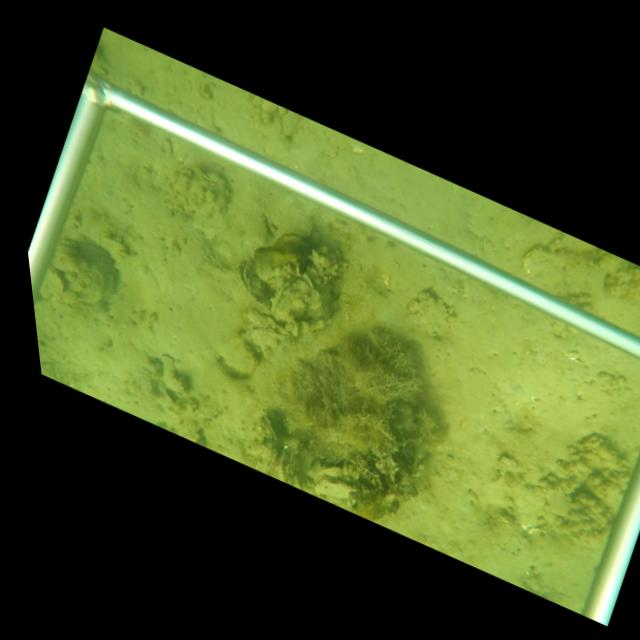Oyster-Closed: (268, 278, 315, 325), (232, 258, 265, 308), (258, 417, 280, 471)
Oyster-Indeterminate: (519, 245, 566, 276), (314, 476, 361, 502)
